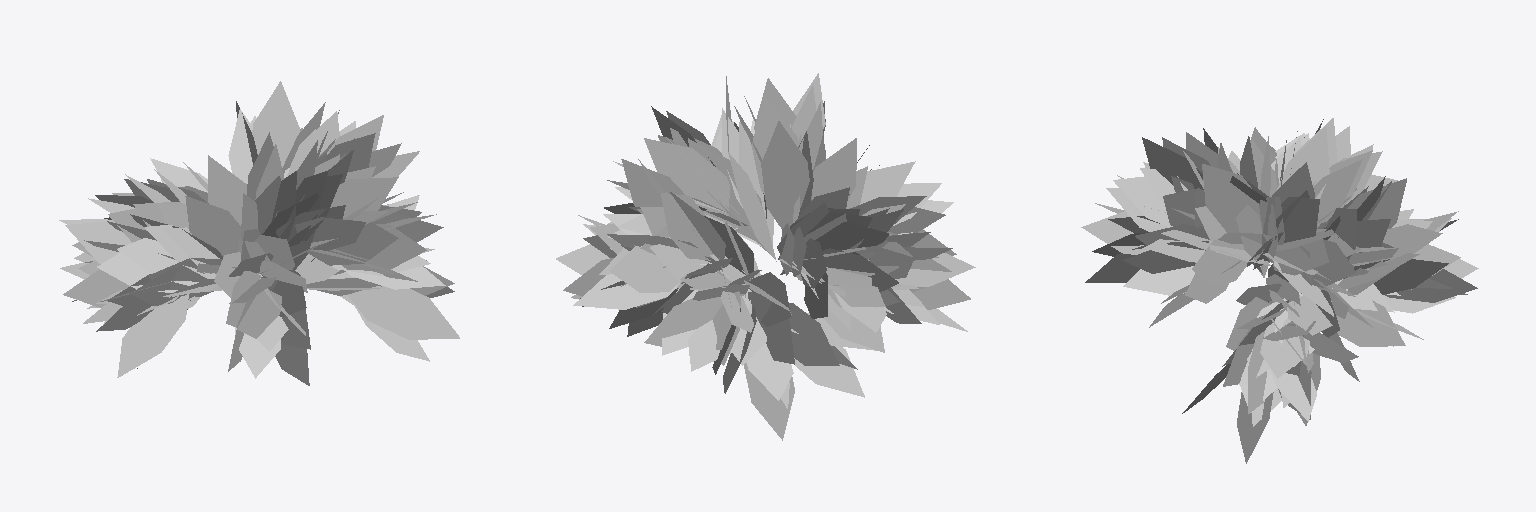
Rendered from palm_leaves.obj.
3 renders of one model, left to right at view 1: azimuth 30°, elevation 25°; view 2: azimuth 150°, elevation 25°; view 3: azimuth 270°, elevation 25°, orthographic.
Parts seen in each view (by area): view 1: leaves_leaves.004; view 2: leaves_leaves.004; view 3: leaves_leaves.004.
Boxes of the visible parts, box(x1,y1,x2,y2) form: leaves_leaves.004: box(59, 81, 459, 385); leaves_leaves.004: box(556, 73, 975, 440); leaves_leaves.004: box(1081, 118, 1478, 463).
Bounding box in the file's own units: 6.13 × 4.2 × 5.74.